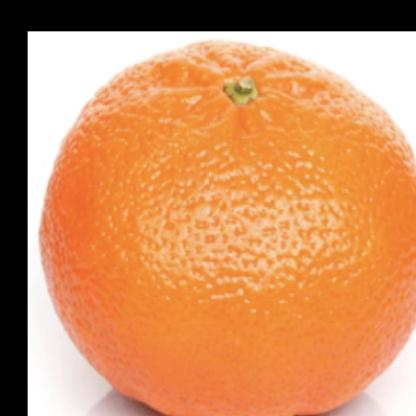rotten: (44, 46, 416, 416)
